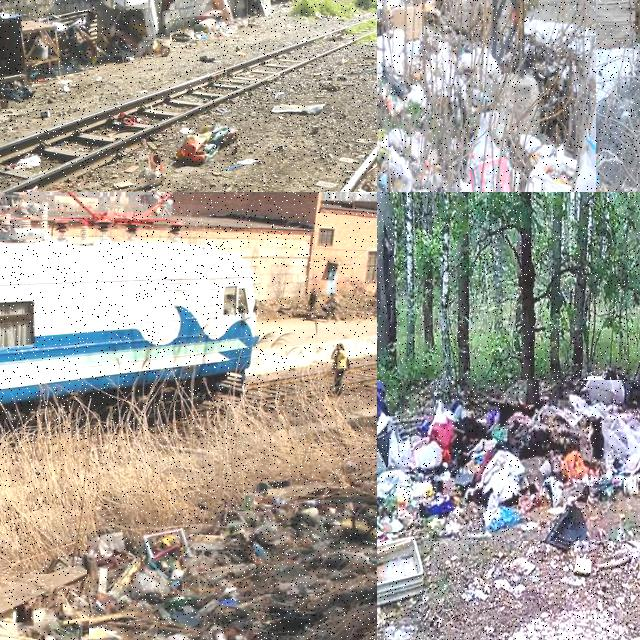lixeira: (377, 380, 639, 543), (377, 0, 597, 191), (87, 510, 255, 639), (255, 457, 376, 597), (0, 574, 92, 639), (16, 13, 96, 80), (377, 532, 426, 639), (98, 0, 172, 60), (177, 123, 239, 167), (194, 0, 250, 42), (0, 78, 34, 114), (139, 155, 166, 187), (172, 29, 194, 43)
